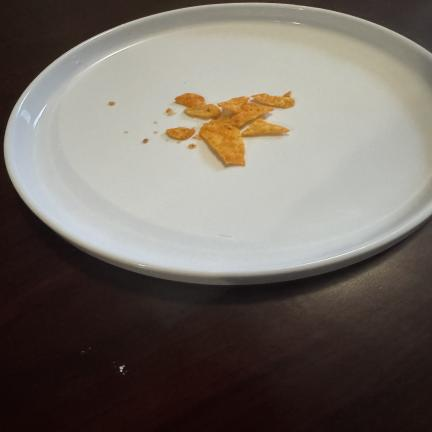chips: (166, 91, 295, 166)
plate: (5, 4, 431, 284)
